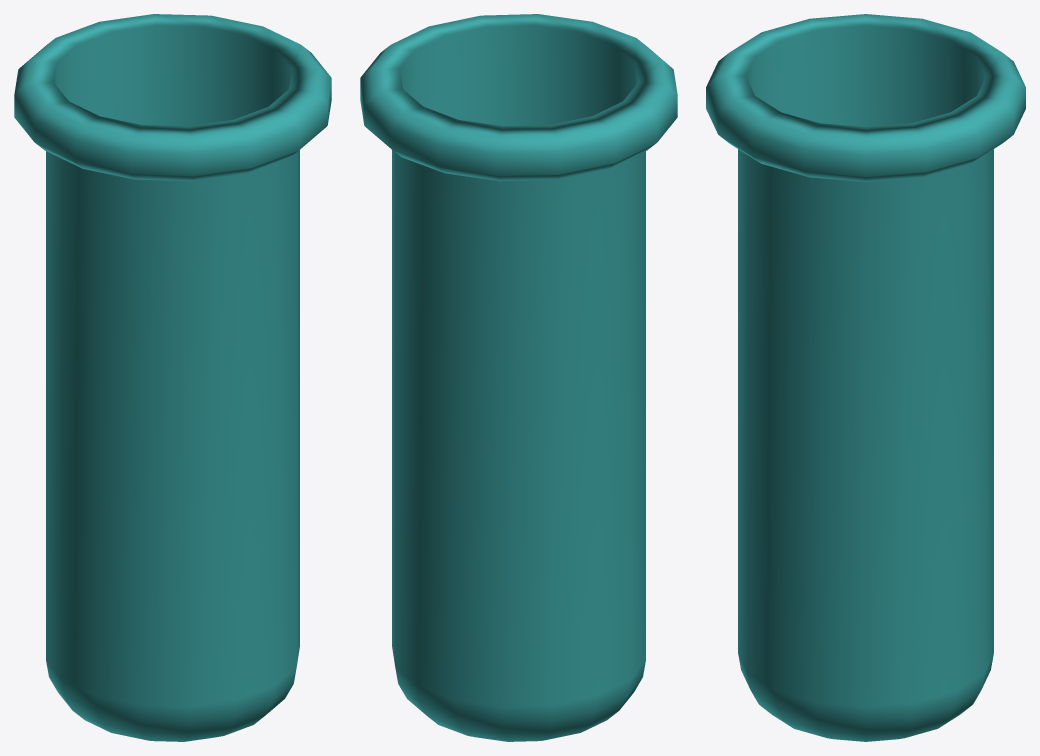
The picture shows the model from 3 angles, left to right: view 1: azimuth 30°, elevation 25°; view 2: azimuth 150°, elevation 25°; view 3: azimuth 270°, elevation 25°; orthographic projection.
Parts seen in each view (by area): view 1: Tube; view 2: Tube; view 3: Tube.
Part boxes in pixels (bbox=[...]): Tube: bbox=[14, 14, 331, 741]; Tube: bbox=[360, 14, 677, 741]; Tube: bbox=[706, 14, 1025, 741].
Size of the model in its own units: 5.83 by 12.72 by 5.83.
